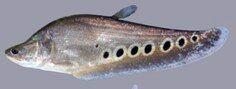Knifefish: (4, 5, 231, 80)
